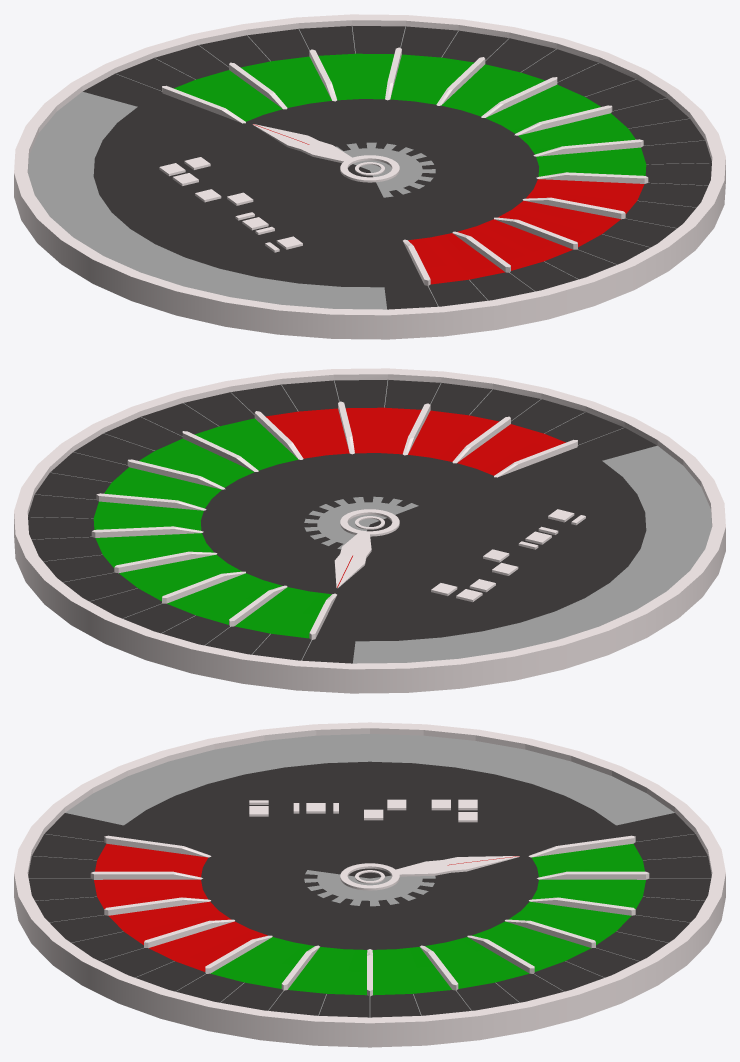
Rendered from Indicator Dial.fbx.
3 views of the same model, one above another, from view 1: azimuth 30°, elevation 25°; view 2: azimuth 150°, elevation 25°; view 3: azimuth 270°, elevation 25° (orthographic).
Visible parts, largest first — view 1: pCylinder4, pCylinder2; view 2: pCylinder4, pCylinder2; view 3: pCylinder4, pCylinder2.
Part boxes in pixels (box(x1,y1,x2,y2)): pCylinder4: box(14, 14, 725, 339); pCylinder2: box(252, 124, 399, 182); pCylinder4: box(14, 368, 725, 693); pCylinder2: box(334, 509, 399, 588); pCylinder4: box(14, 722, 725, 1047); pCylinder2: box(340, 856, 519, 890).
Size of the model in its own units: 40 by 1.5 by 40.
